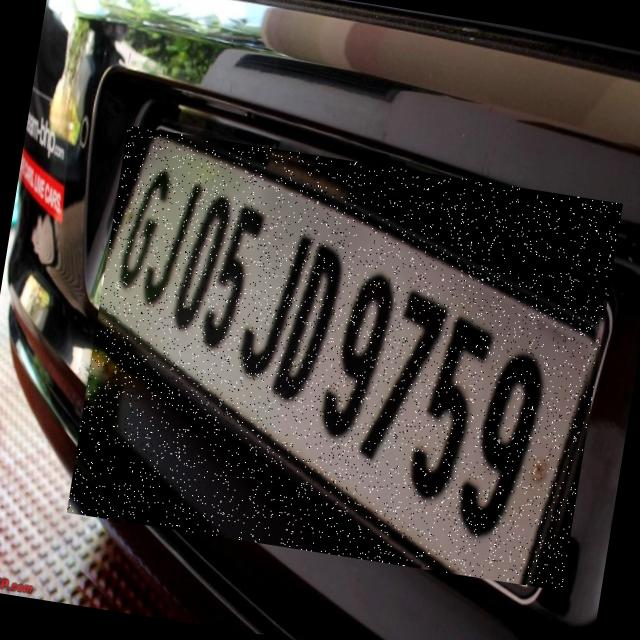Plate: (68, 127, 624, 593)
